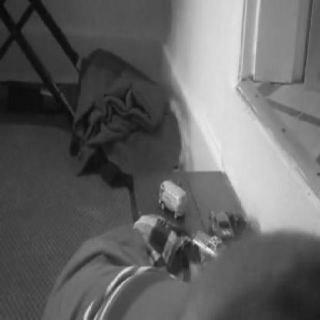other: (195, 220, 232, 257)
